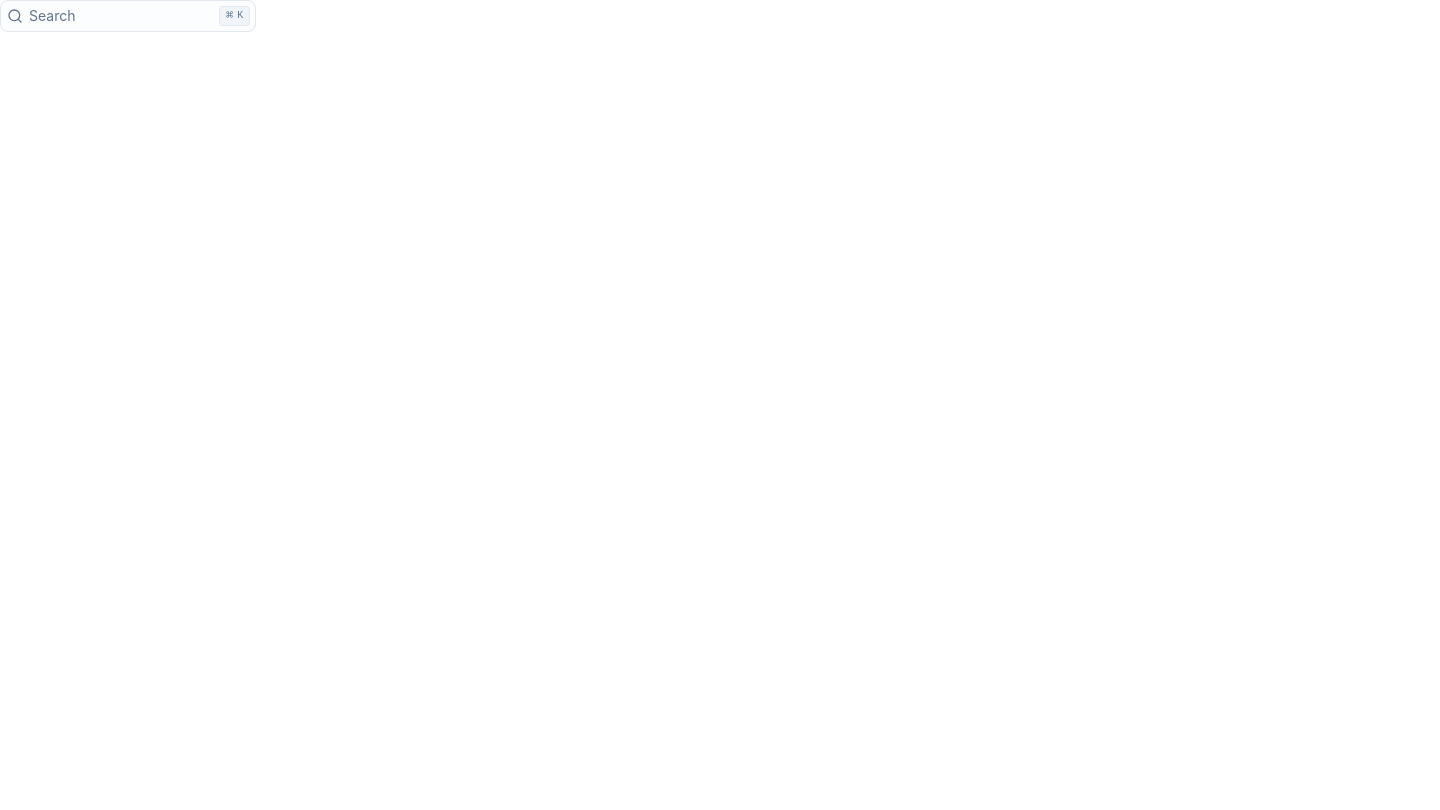
it: Shell & Accessibility Controls › localizes Search trigger and CommandMenu dialog accessible title/description
The width and height of the screenshot is (1440, 810).
What coordinates should you click on to do the following:
click the button "Search ⌘ K"
I would click on:
 (128, 16)
Its box is [0, 0, 256, 32].
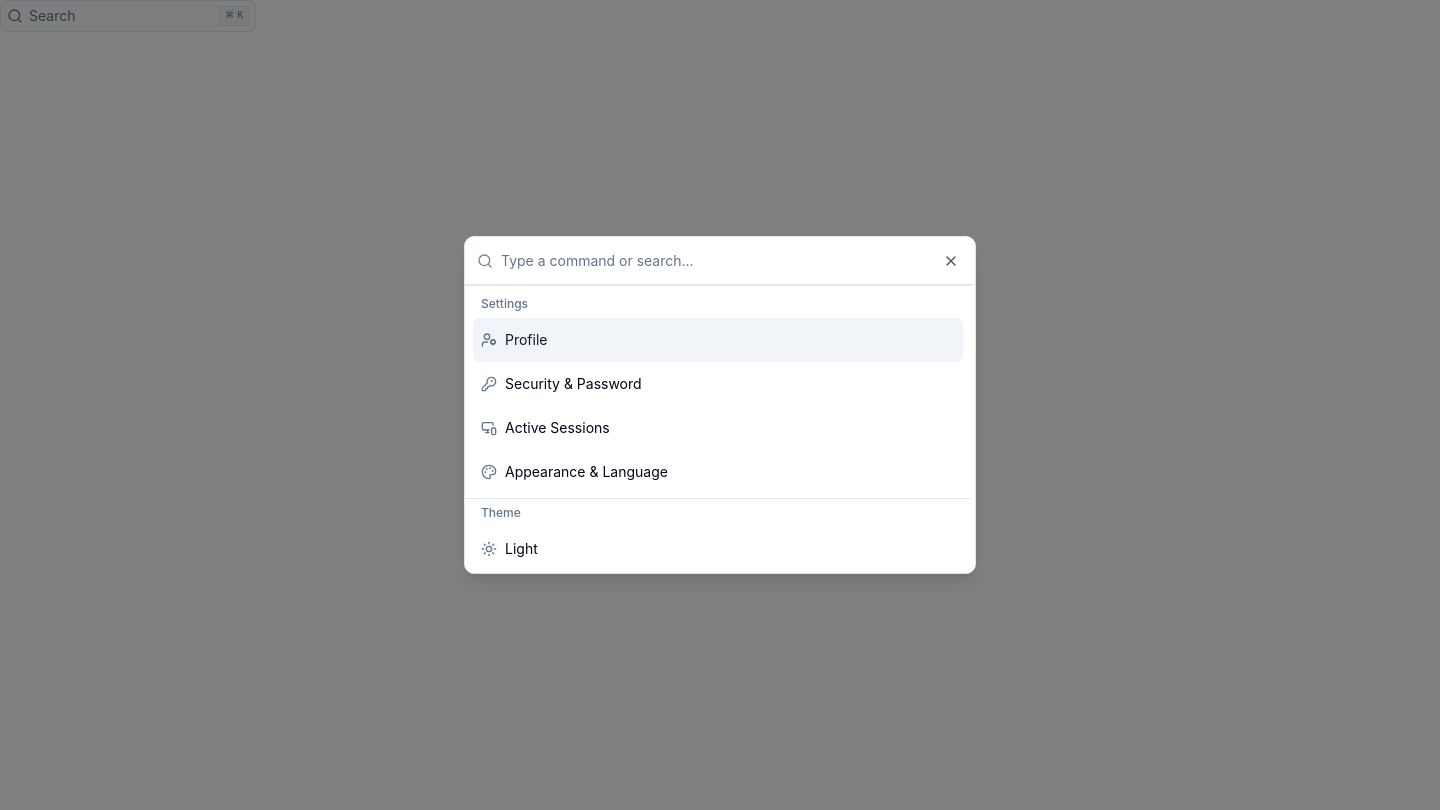
expect the dialog is shown: met, box [464, 236, 976, 574]
